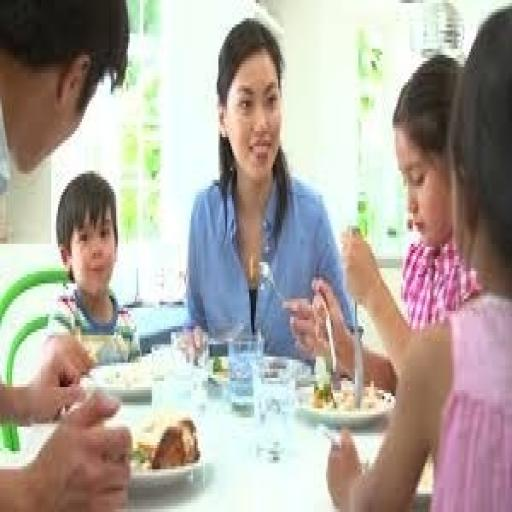eating: (181, 12, 358, 369)
